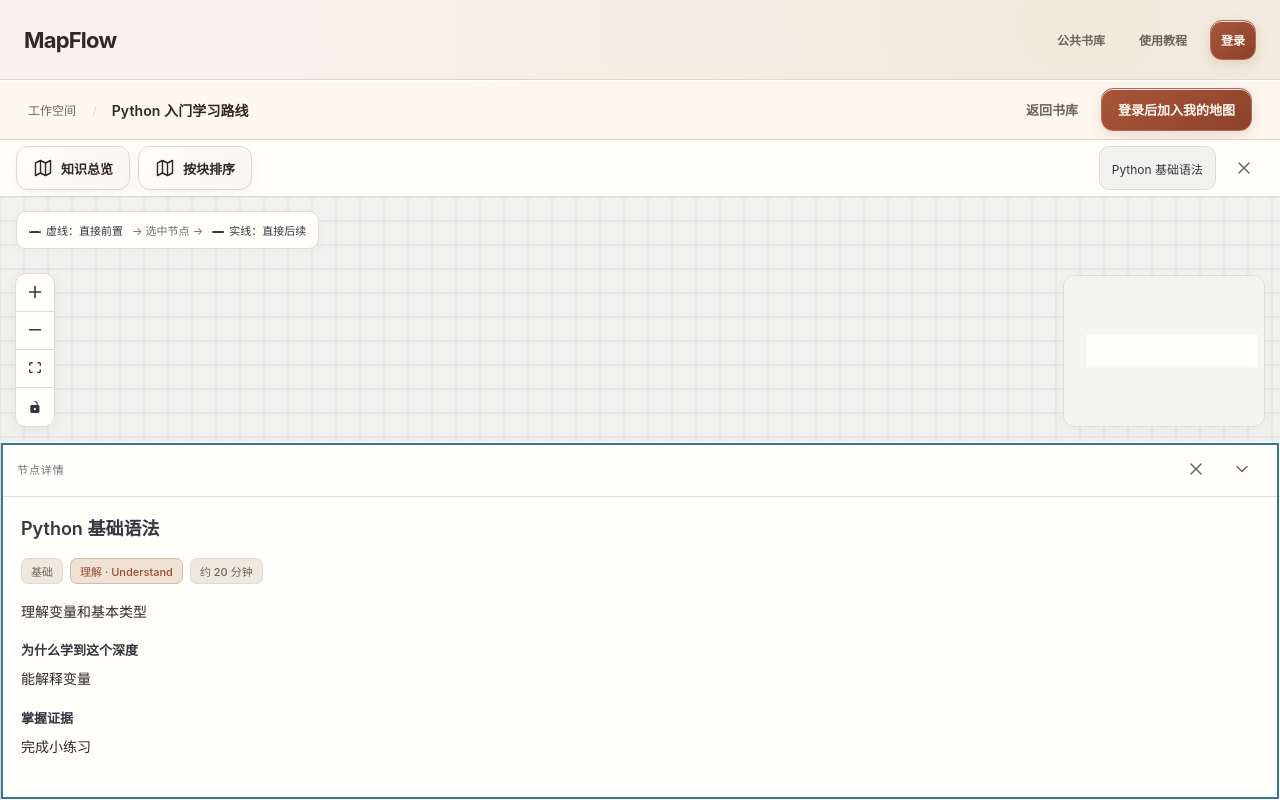
Test: keeps a public map readable and asks the visitor to log in before adding it
Check: the heading "Python 基础语法" is shown, box [21,518,159,539]
Click the button "登录后加入我的地图" at (1176, 110), box [1101,88,1252,131]
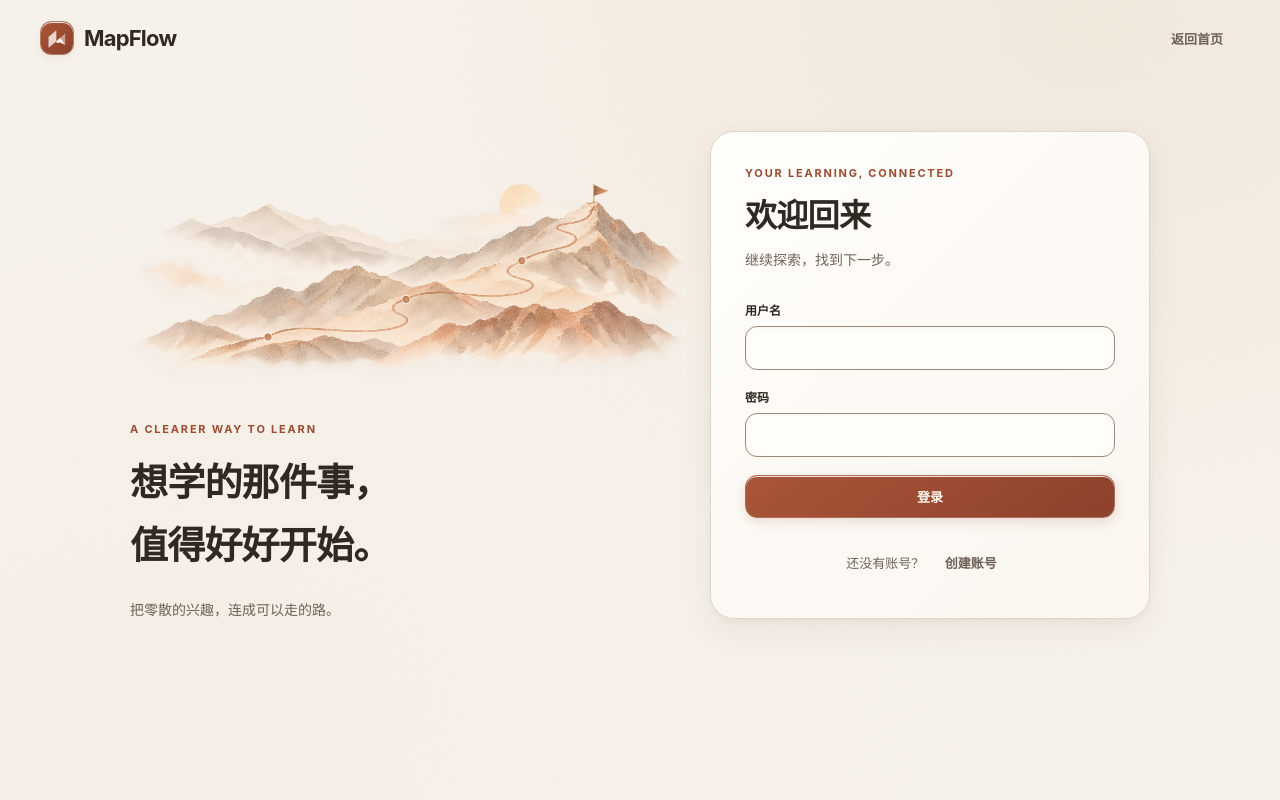
Check: the field labelled "用户名" is shown, box [745,326,1115,370]
